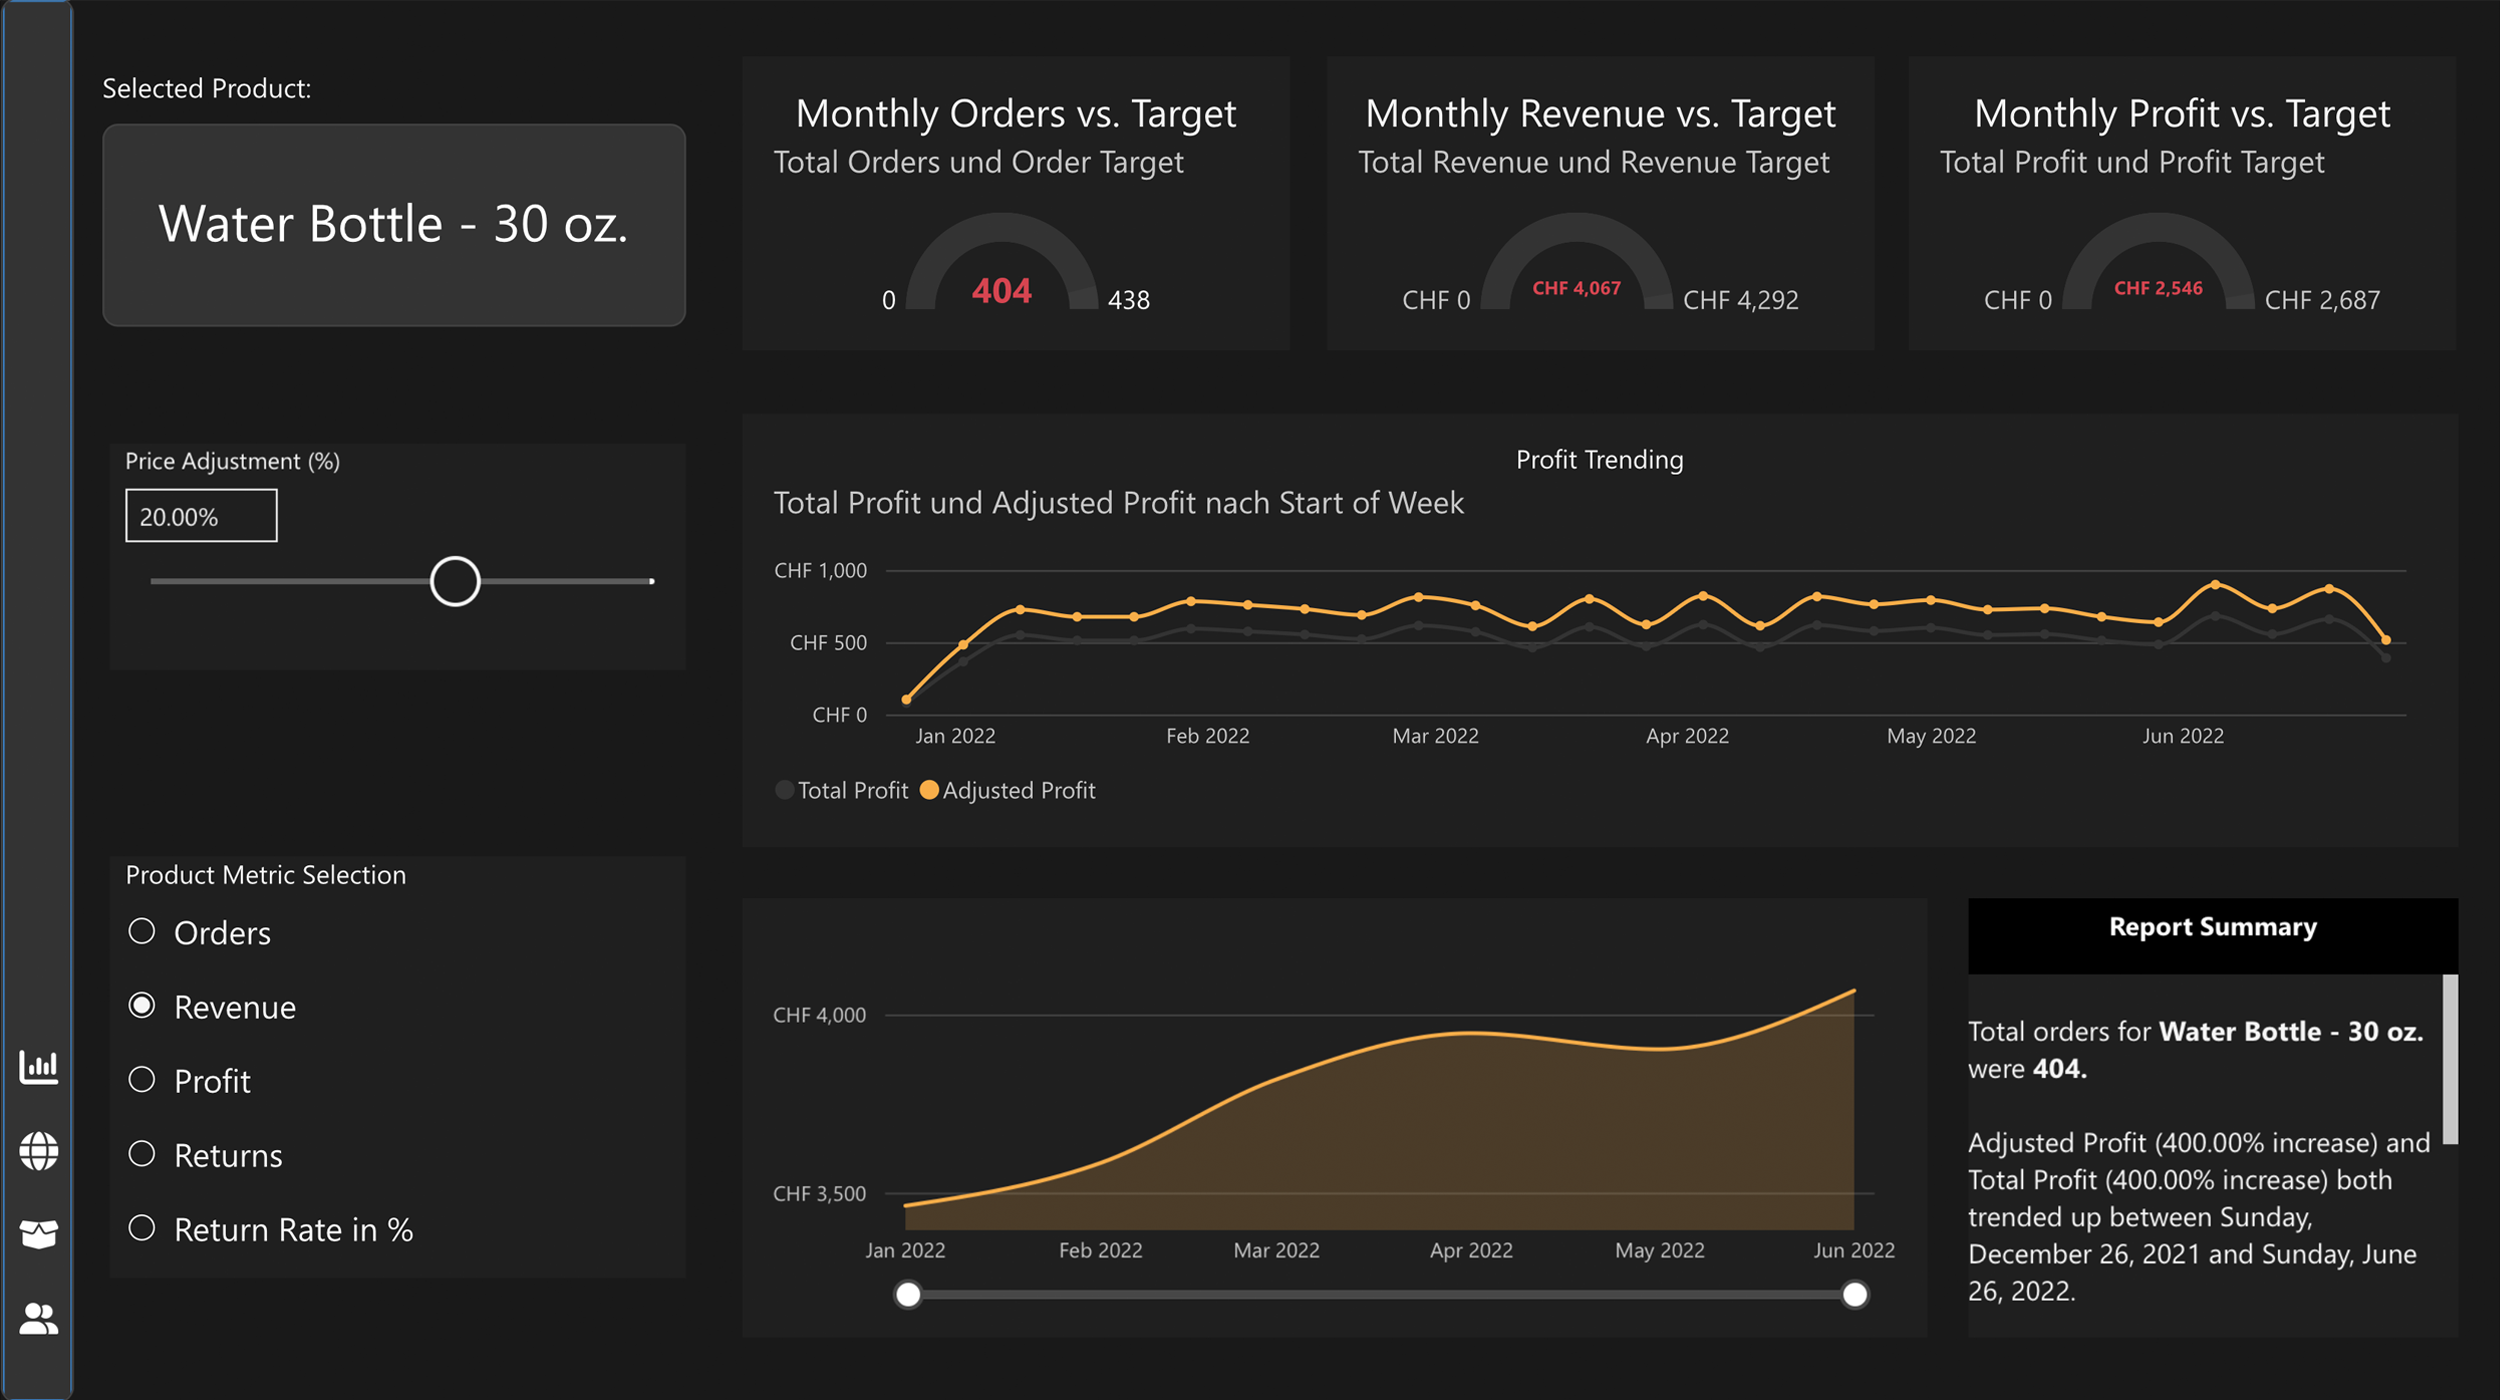

What the dashboard file says about the page in this screenshot:
{"tool":"powerbi","page":{"name":"Product Detail","canvas":[1280,720],"ordinal":2},"visuals":[{"type":"shape","title":"Left Nav Background","box":[0,0,37.7,719.7],"z":0},{"type":"actionButton","box":[4.7,527.8,29.6,39.8],"z":0,"group":"g1"},{"type":"gauge","title":"Monthly Orders vs. Target","fields":{"MaxValue":["Measure Table.Order Target"],"Y":["Measure Table.Total Orders"]},"box":[380,30,280.5,150.3],"z":1000},{"type":"actionButton","box":[4.7,570.6,29.6,39.8],"z":1000,"group":"g1"},{"type":"gauge","title":"Monthly Profit vs. Target","fields":{"MaxValue":["Measure Table.Profit Target"],"Y":["Measure Table.Total Profit"]},"box":[977,30,280.5,150.3],"z":2000},{"type":"actionButton","box":[4.7,613.5,29.6,39.8],"z":2000,"group":"g1"},{"type":"gauge","title":"Monthly Revenue vs. Target","fields":{"MaxValue":["Measure Table.Revenue Target"],"Y":["Measure Table.Total Revenue"]},"box":[679.5,30.1,280.5,150.3],"z":3000},{"type":"actionButton","box":[4.7,656.3,29.6,39.8],"z":3000,"group":"g1"},{"type":"lineChart","title":"Profit Trending","fields":{"Category":["Calendar Lookup.Date Hierarchy.Start of Year","Calendar Lookup.Date Hierarchy.Start of Month","Calendar Lookup.Date Hierarchy.Start of Week","Calendar Lookup.Date Hierarchy.Date"],"Y":["Measure Table.Total Profit","Measure Table.Adjusted Profit"]},"box":[380,213,879,222],"z":4000},{"type":"areaChart","title":"Returns Trending","fields":{"Category":["Calendar Lookup.Date Hierarchy.Start of Year","Calendar Lookup.Date Hierarchy.Start of Month"],"Y":["Measure Table.Total Revenue"]},"box":[380,461,607,225],"z":5000},{"type":"card","fields":{"Values":["Min(Product Lookup.ProductName)"]},"box":[52,64.6,299.1,103.9],"z":6000},{"type":"textbox","box":[52,36.2,299.1,33.1],"z":7000},{"type":"slicer","fields":{"Values":["Price Adjustment (%).Price Adjustment (%)"]},"box":[56,228,295,116],"z":9000},{"type":"slicer","fields":{"Values":["Product Metric Selection.Product Metric Selection"]},"box":[56,440,295,216],"z":10000},{"type":"textbox","title":"Report Summary","box":[1008,461,251,225],"z":11000},{"type":"group","id":"g1","title":"Nav Buttons","box":[4.7,527.8,29.6,168.3],"z":11001}]}

Visuals, with their boxes on the page's 1280x720 design canvas (x1, y1, x2, y2). These are canvas units, not pixel positions in the 2500x1400 screenshot, which may show the page scaled, cropped or inside an application window:
"Left Nav Background" shape: bbox(0, 0, 38, 720)
actionButton: bbox(5, 528, 34, 568)
"Monthly Orders vs. Target" gauge: bbox(380, 30, 660, 180)
actionButton: bbox(5, 571, 34, 610)
"Monthly Profit vs. Target" gauge: bbox(977, 30, 1258, 180)
actionButton: bbox(5, 614, 34, 653)
"Monthly Revenue vs. Target" gauge: bbox(680, 30, 960, 180)
actionButton: bbox(5, 656, 34, 696)
"Profit Trending" lineChart: bbox(380, 213, 1259, 435)
"Returns Trending" areaChart: bbox(380, 461, 987, 686)
card - Min(Product Lookup.ProductName): bbox(52, 65, 351, 168)
textbox: bbox(52, 36, 351, 69)
slicer - Price Adjustment (%).Price Adjustment (%): bbox(56, 228, 351, 344)
slicer - Product Metric Selection.Product Metric Selection: bbox(56, 440, 351, 656)
"Report Summary" textbox: bbox(1008, 461, 1259, 686)
"Nav Buttons" group: bbox(5, 528, 34, 696)
